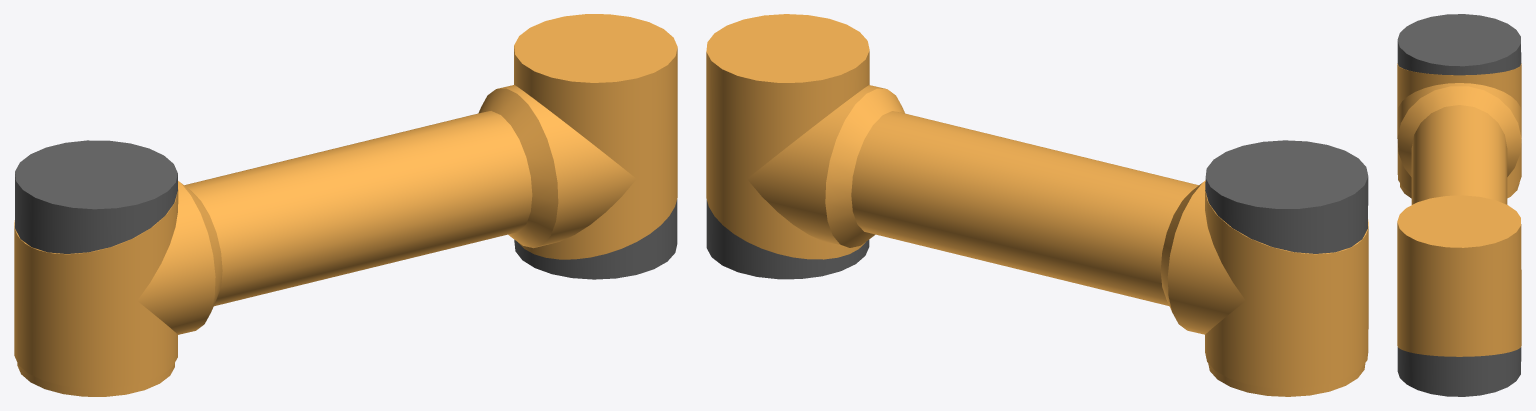
The picture shows the model from 3 angles, left to right: view 1: azimuth 30°, elevation 25°; view 2: azimuth 150°, elevation 25°; view 3: azimuth 270°, elevation 25°; orthographic projection. The views are drawn at different scales.
Parts seen in each view (by area): view 1: NONE; view 2: NONE; view 3: NONE.
Part boxes in pixels (x1,y1,x2,y2): NONE: (14, 14, 677, 396); NONE: (706, 14, 1368, 396); NONE: (1397, 14, 1521, 396).
Size of the model in its own units: 0.524 by 0.116 by 0.1535.
